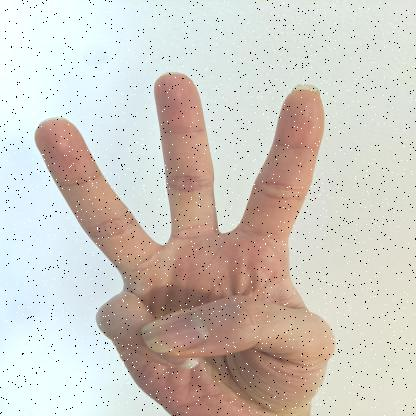W: (34, 72, 335, 416)
